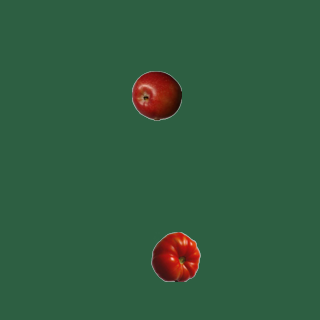Apple Braeburn: (131, 70, 181, 120)
Tomato 3: (150, 231, 200, 281)
